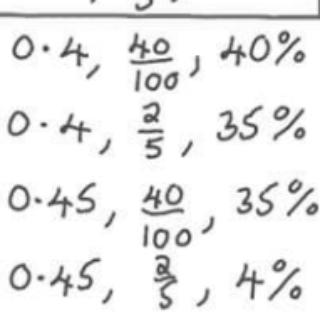.: (41, 40, 49, 54), (32, 194, 42, 205), (40, 119, 47, 130), (36, 274, 44, 283)
0: (11, 31, 35, 62), (6, 108, 30, 138), (6, 183, 30, 213), (7, 261, 31, 291), (248, 33, 271, 64), (164, 182, 184, 206), (143, 68, 162, 93), (152, 34, 171, 55), (151, 228, 170, 249), (174, 228, 193, 247), (163, 70, 178, 93)
1: (141, 221, 150, 247), (132, 69, 142, 92)
2: (141, 101, 162, 125), (152, 253, 173, 276)
3: (212, 109, 239, 144), (234, 185, 254, 216)
4: (234, 263, 265, 300), (59, 113, 91, 145), (58, 36, 89, 68), (219, 34, 248, 67), (47, 186, 73, 219), (50, 265, 74, 297), (129, 33, 151, 59), (142, 183, 162, 210)
5: (239, 103, 267, 142), (256, 181, 279, 217), (77, 256, 100, 291), (76, 181, 97, 215), (159, 279, 177, 310), (143, 136, 166, 160)
